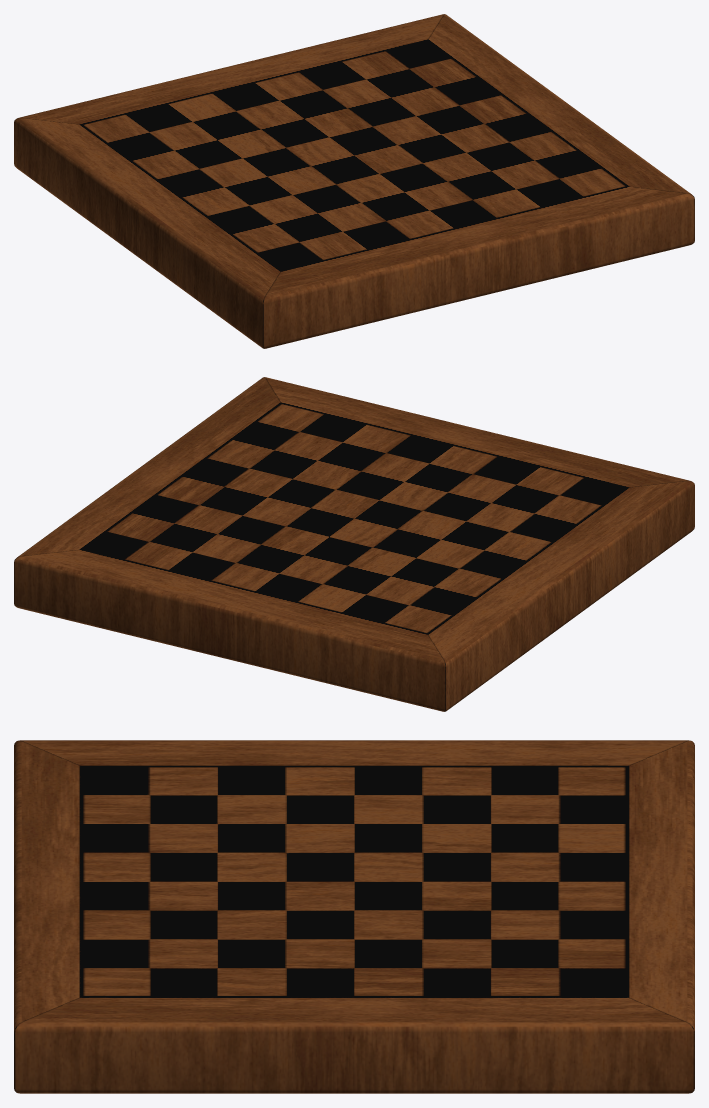
Rendered from Board.glb.
3 views of the same model, one above another, from view 1: azimuth 30°, elevation 25°; view 2: azimuth 150°, elevation 25°; view 3: azimuth 270°, elevation 25° (orthographic). The views are drawn at different scales.
Parts seen in each view (by area): view 1: ChessBoard; view 2: ChessBoard; view 3: ChessBoard.
Part boxes in pixels (<box>): ChessBoard: <box>14,14,694,348</box>; ChessBoard: <box>14,377,694,711</box>; ChessBoard: <box>14,740,694,1093</box>.
Size of the model in its own units: 0.35 by 0.04 by 0.35.
1 material, 1 textured.
